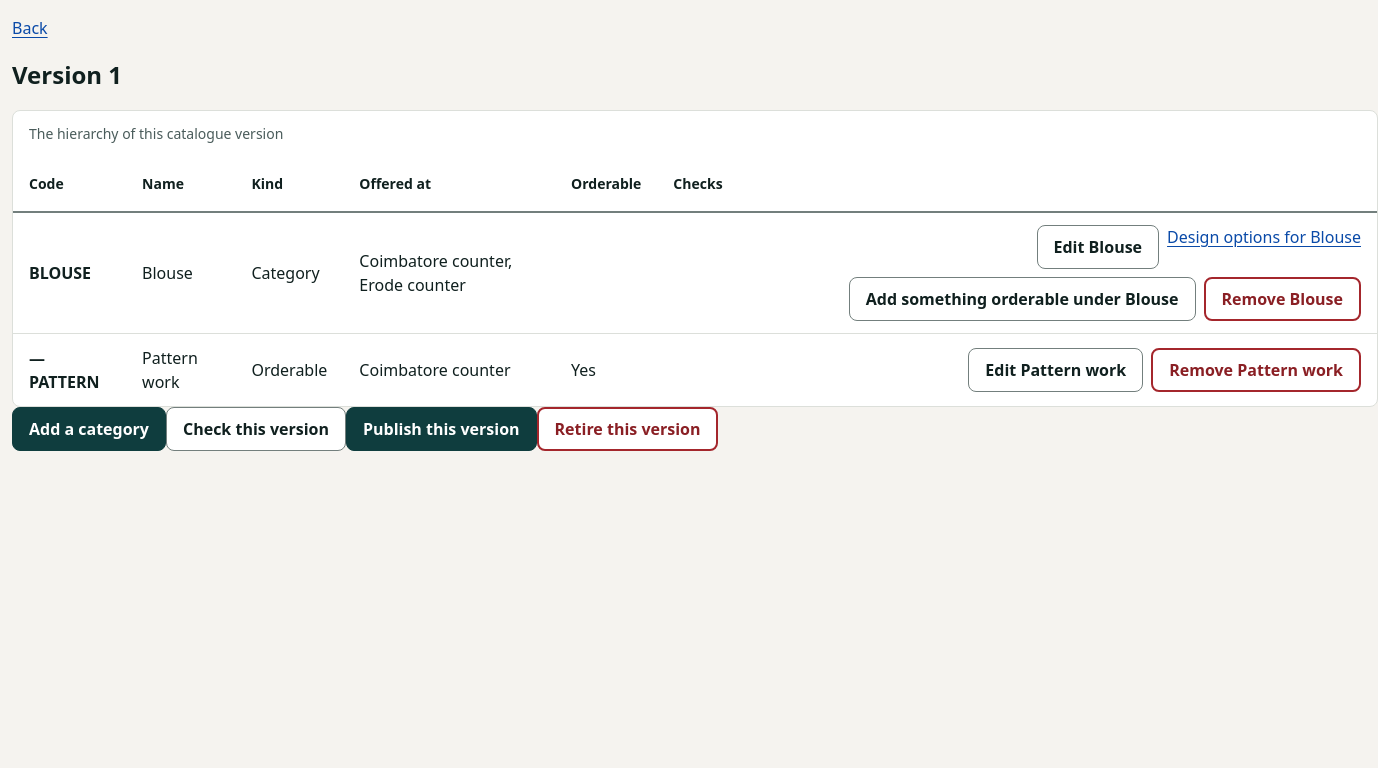
Test: keeps a finding it cannot anchor rather than losing a refusal
Check: the table is shown, box top-left (13, 111), bottom-right (1377, 406)
Click the button "Check this version" at (256, 429), box top-left (166, 407), bottom-right (346, 451)
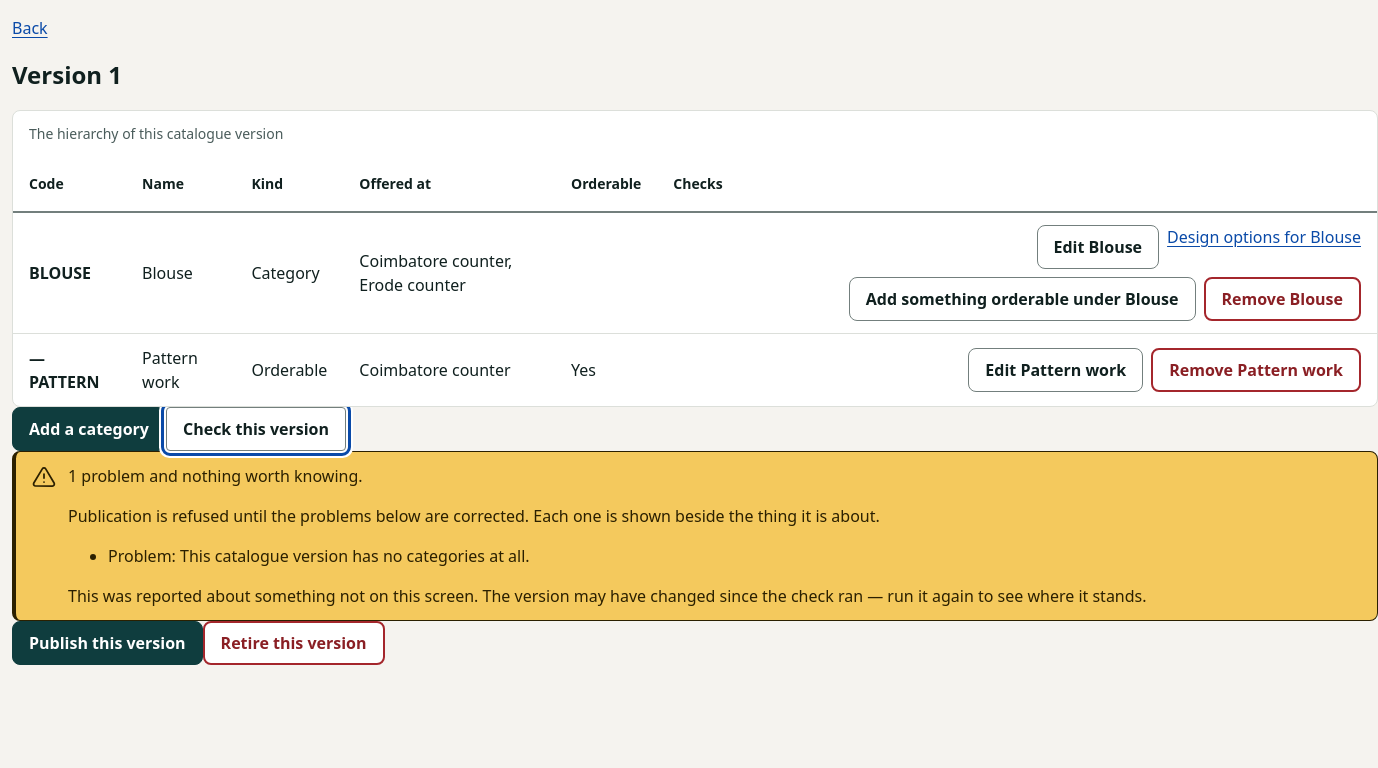
Check: the list item "Problem: This catalogue version has no categories at all." is shown, box top-left (108, 545), bottom-right (530, 567)
Check: the text "reported about something not on this screen" is shown, box top-left (68, 585), bottom-right (1146, 607)
